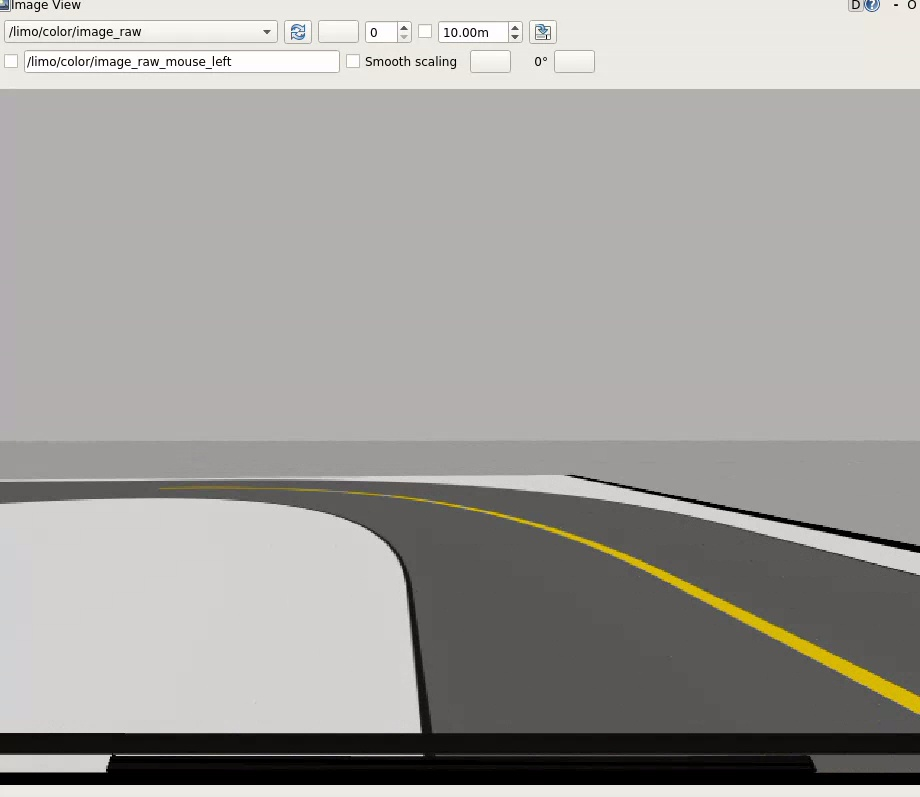Solid: (306, 488, 919, 713)
Street: (0, 482, 919, 732)
